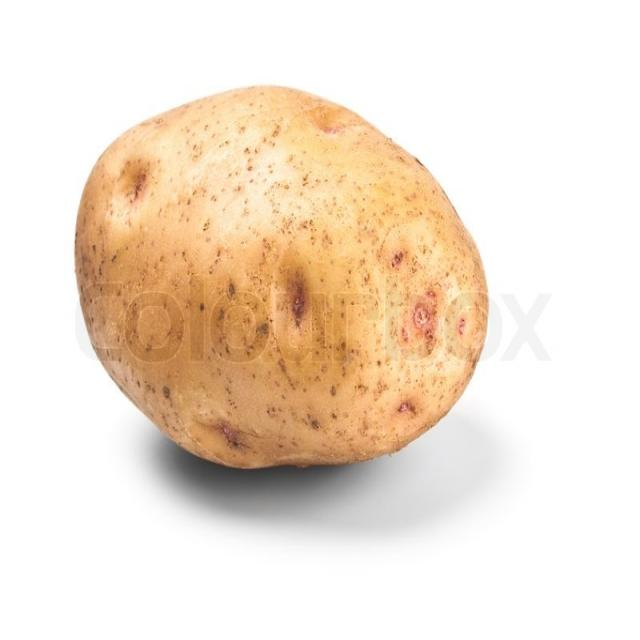potato: (76, 86, 488, 470)
